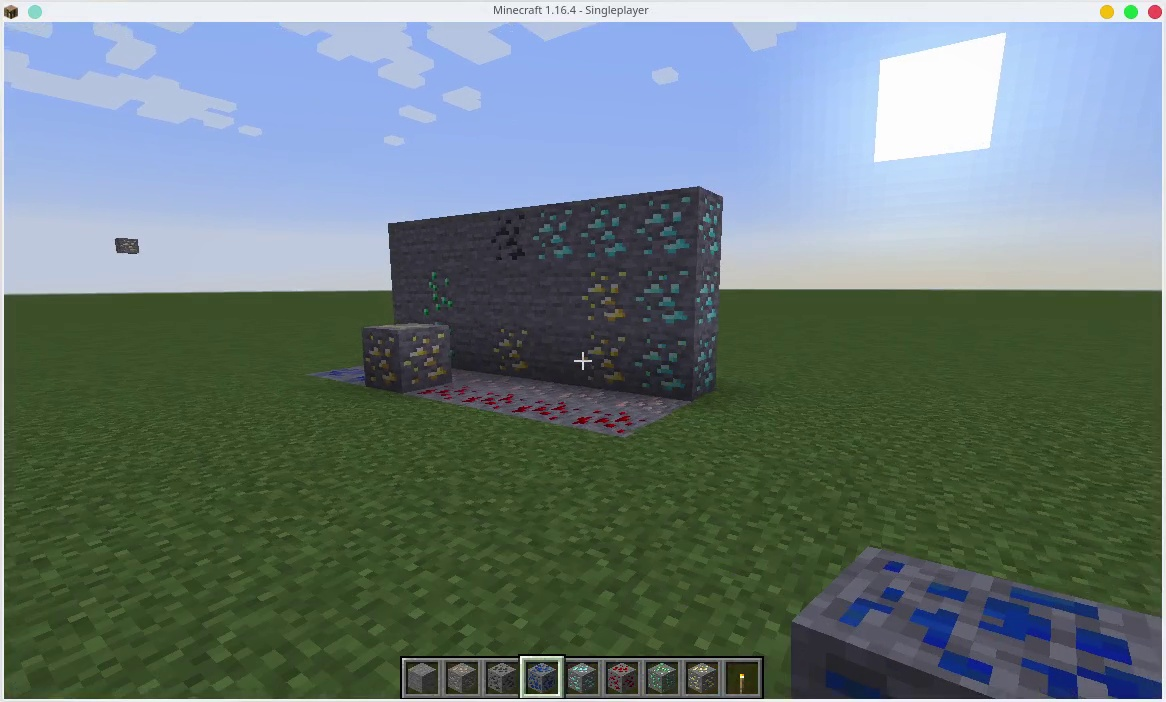gold: (364, 325, 455, 390), (582, 270, 632, 329), (579, 331, 629, 390), (490, 327, 540, 374), (688, 664, 720, 693)
